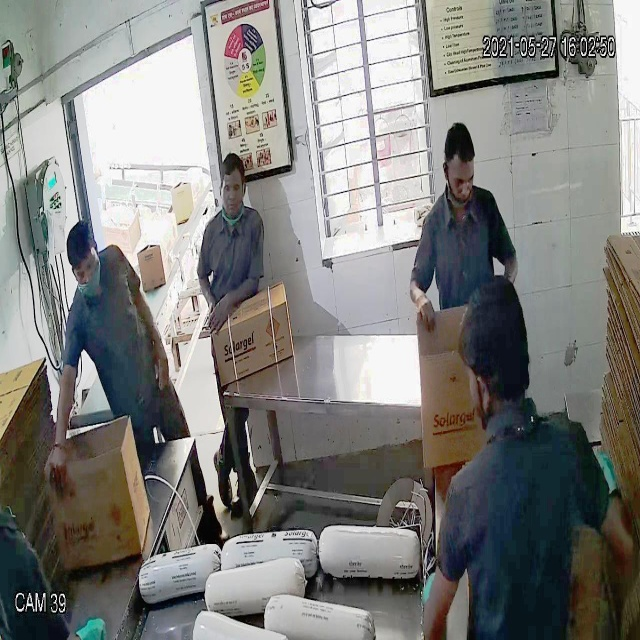Sin_gafas: (65, 244, 105, 285), (442, 164, 478, 196), (216, 178, 248, 205)
